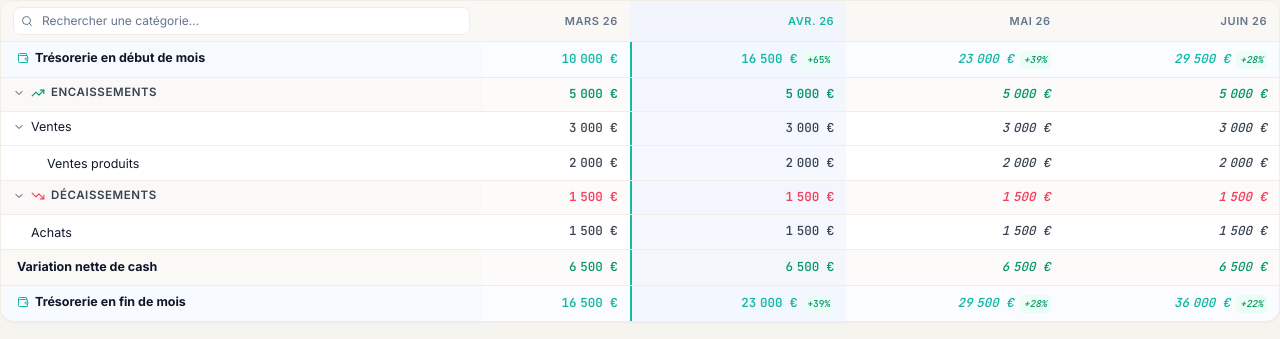
Test: PivotTable › renders hierarchy and toggles child visibility
The image size is (1280, 339).
Expected: the text "Ventes" is shown, [31,118,72,136]
Expected: the text "Achats" is shown, [31,224,72,243]
Click the button named "Replier" at (19, 127), box [13,121,25,133]
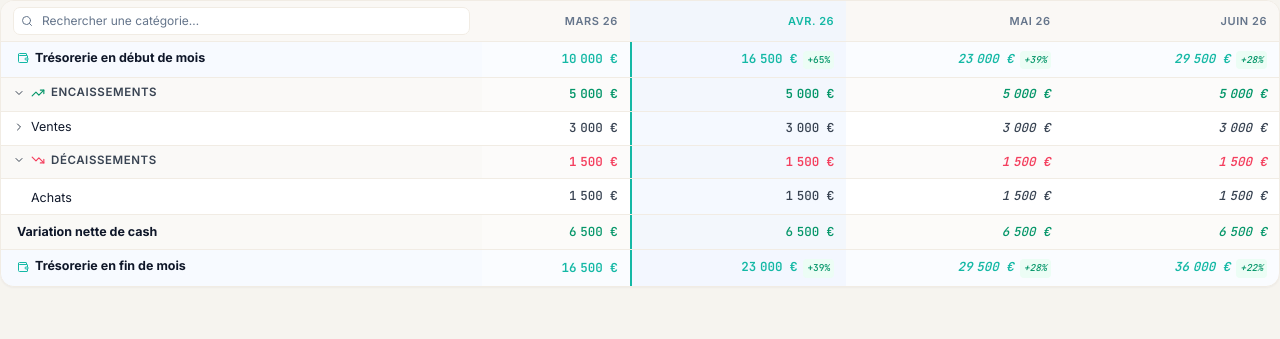
Expected: the text "Ventes produits" is gone
